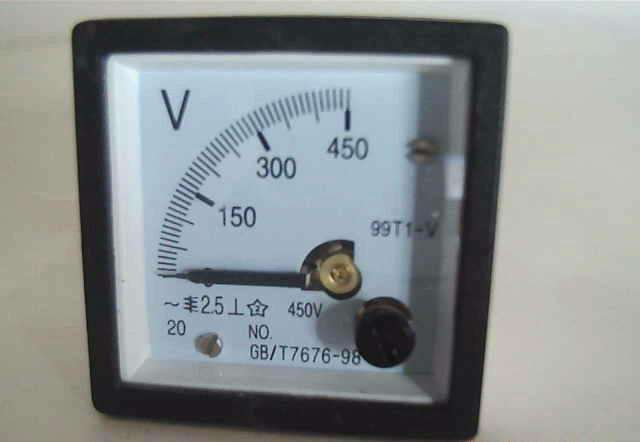pointer: (106, 54, 472, 405)
